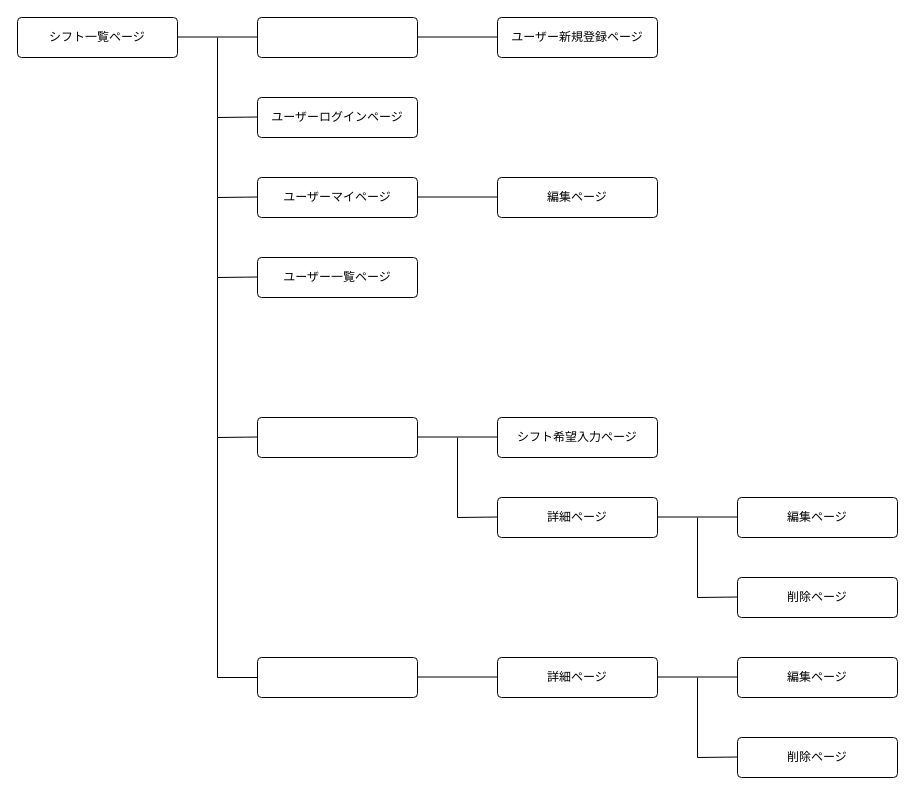
Image size: 915x795. Some labels were removed from this diagram. The centre of each missing label's shape, as x and y in pixels:
"シフト作成(入力)ページ" goes at (337,677).
"シフト希望一覧ページ" goes at (337,437).
"ユーザー新規登録方法 選択ページ" goes at (337,37).
